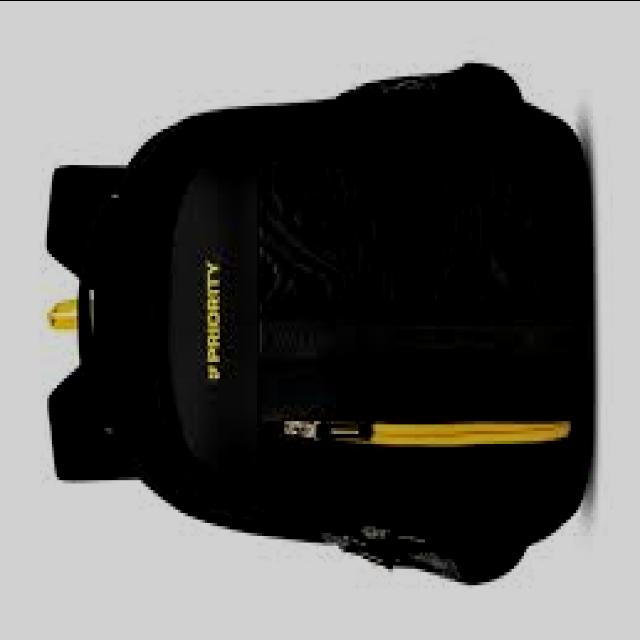backpack: (43, 64, 594, 589)
